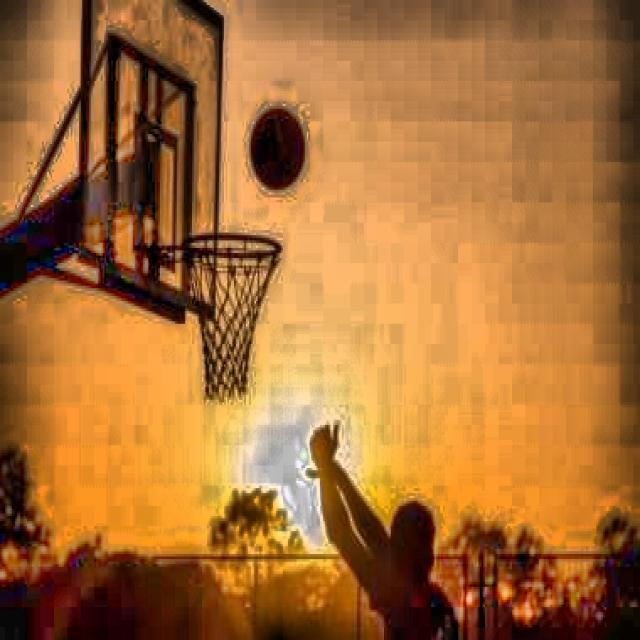rim: (181, 232, 280, 398)
